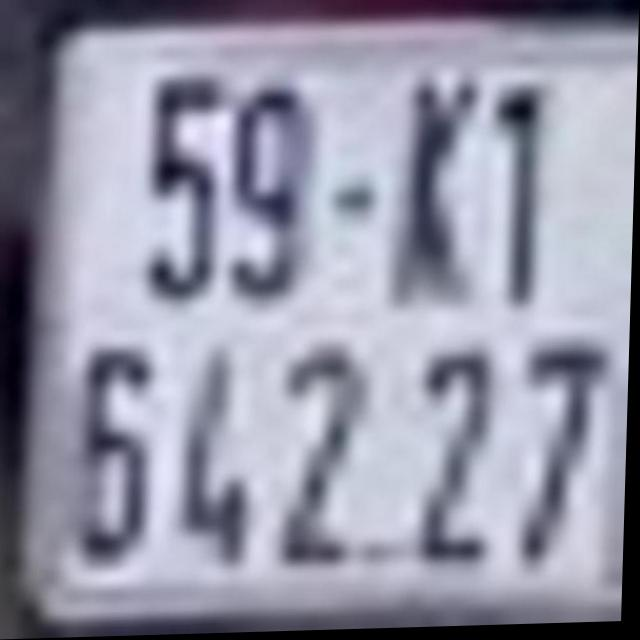1: (488, 94, 555, 308)
2: (416, 332, 499, 571), (280, 335, 359, 572)
4: (181, 329, 269, 577)
5: (137, 70, 227, 308), (74, 340, 164, 569)
7: (518, 336, 614, 581)
9: (227, 77, 321, 301)
K: (396, 69, 485, 316)
